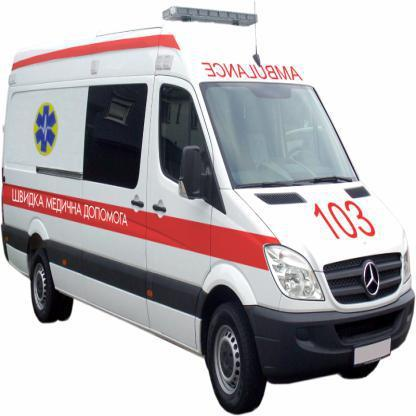ambulance_off: (1, 7, 416, 411)
